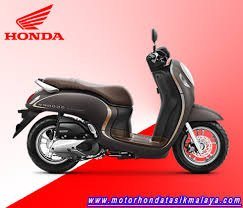motor: (19, 41, 228, 177)
